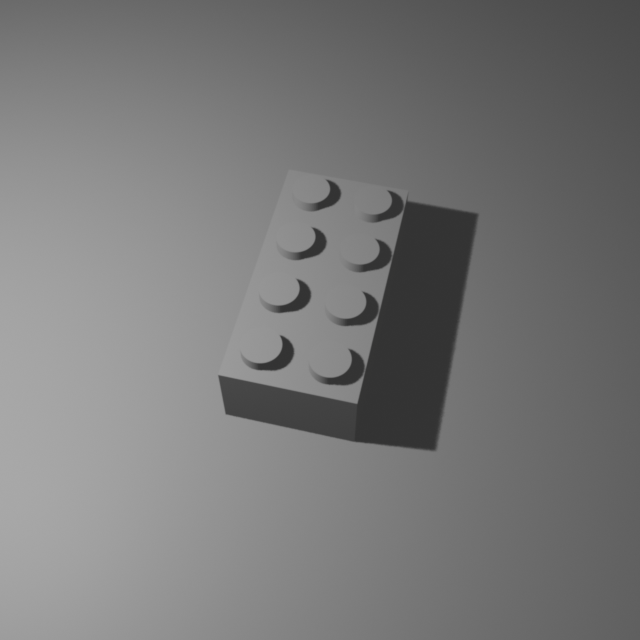lego_2x4: (217, 161, 410, 442)
